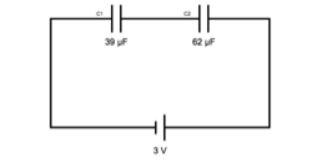Capacitor: (102, 0, 129, 36)
